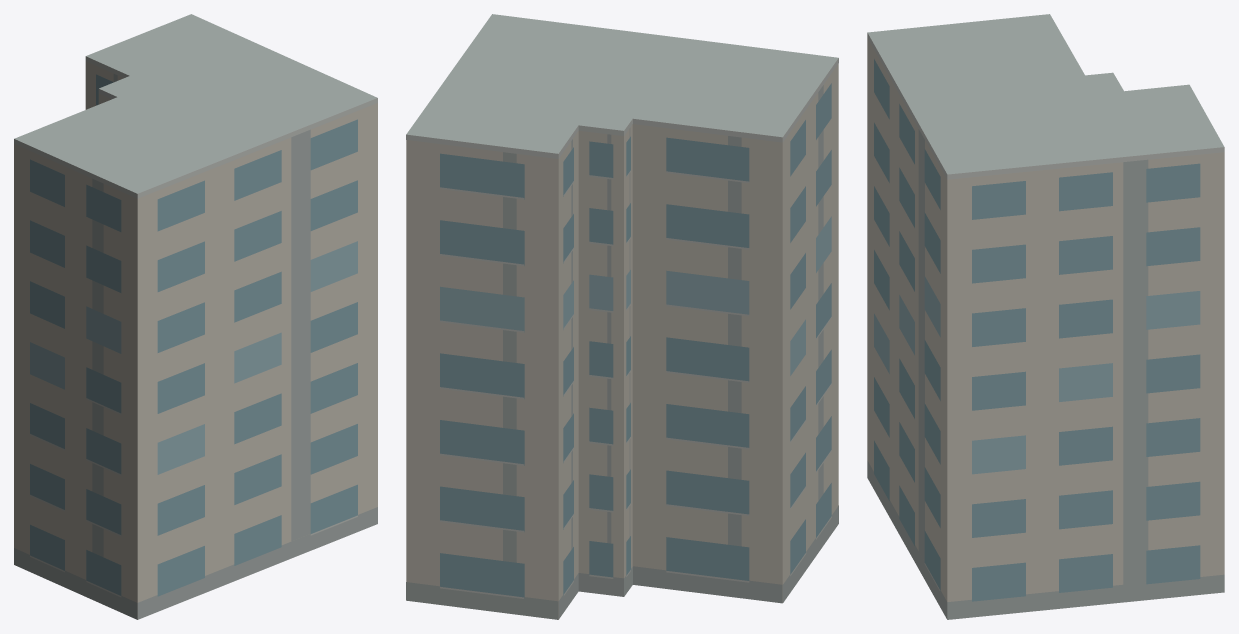
File: survey-upis-32811265.glb
3 views of the same model, side by side, from view 1: azimuth 30°, elevation 25°; view 2: azimuth 150°, elevation 25°; view 3: azimuth 270°, elevation 25° (orthographic). The views are drawn at different scales.
Parts seen in each view (by area): view 1: survey-upis-32811265.tmp; view 2: survey-upis-32811265.tmp; view 3: survey-upis-32811265.tmp.
Boxes of the visible parts, x1,y1,x2,y2 form: survey-upis-32811265.tmp: [14, 14, 377, 619]; survey-upis-32811265.tmp: [406, 14, 838, 619]; survey-upis-32811265.tmp: [867, 14, 1224, 619].
Bounding box in the file's own units: 16.56 × 21.4 × 15.56.
